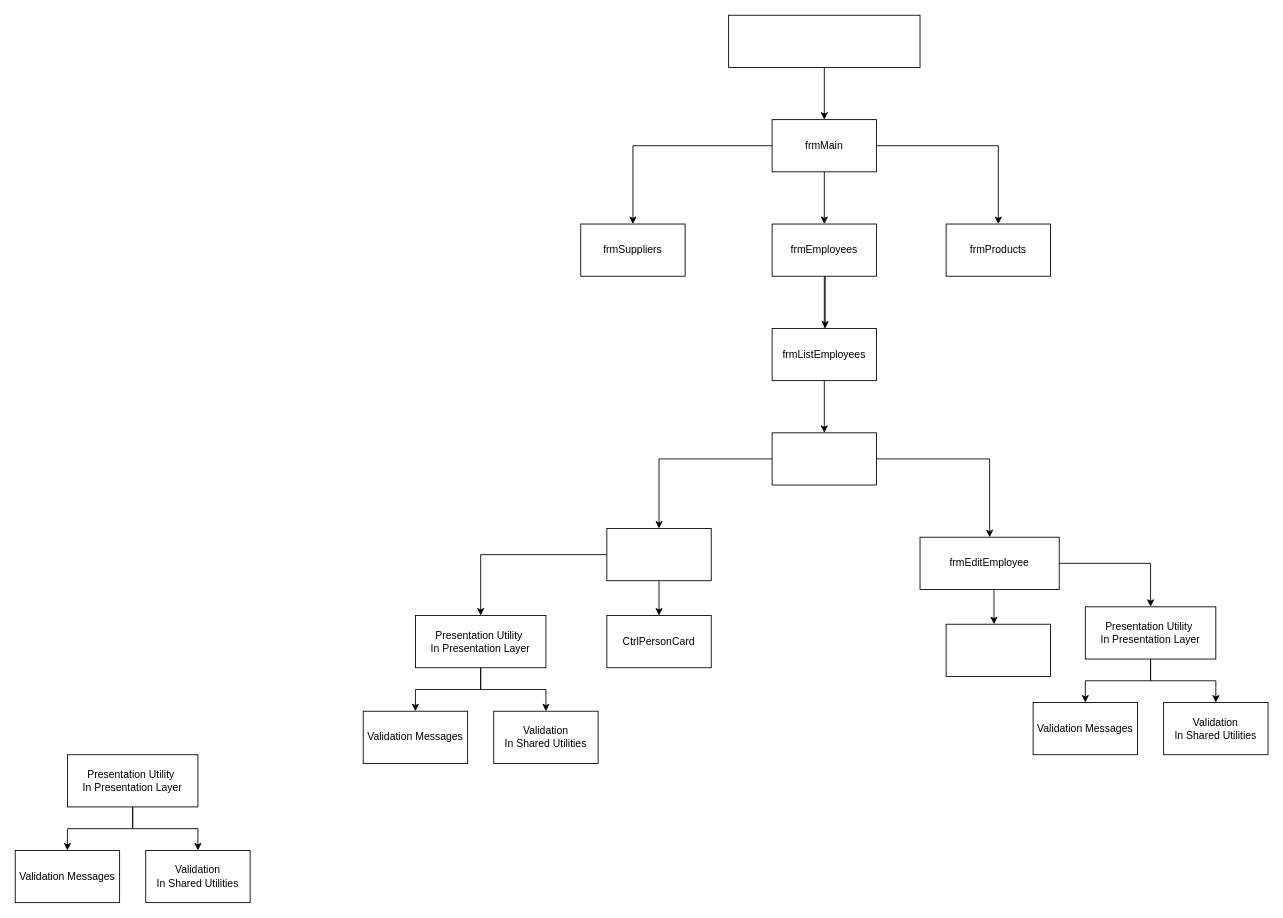
Some shapes in this 1283 by 918 pixel diagram are drawn without their labels. Each missing label, with the box of its shape:
ctrlEmployeeCard: (945, 623, 1051, 676)
frmEditPerson: (606, 528, 711, 581)
frmEmployeeInfo: (771, 432, 877, 485)
Inventory System Presentation Layer: (728, 14, 920, 67)
